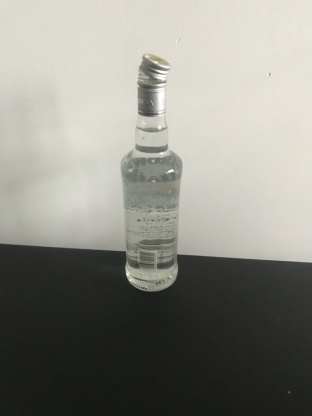nakretka: (135, 51, 171, 117)
